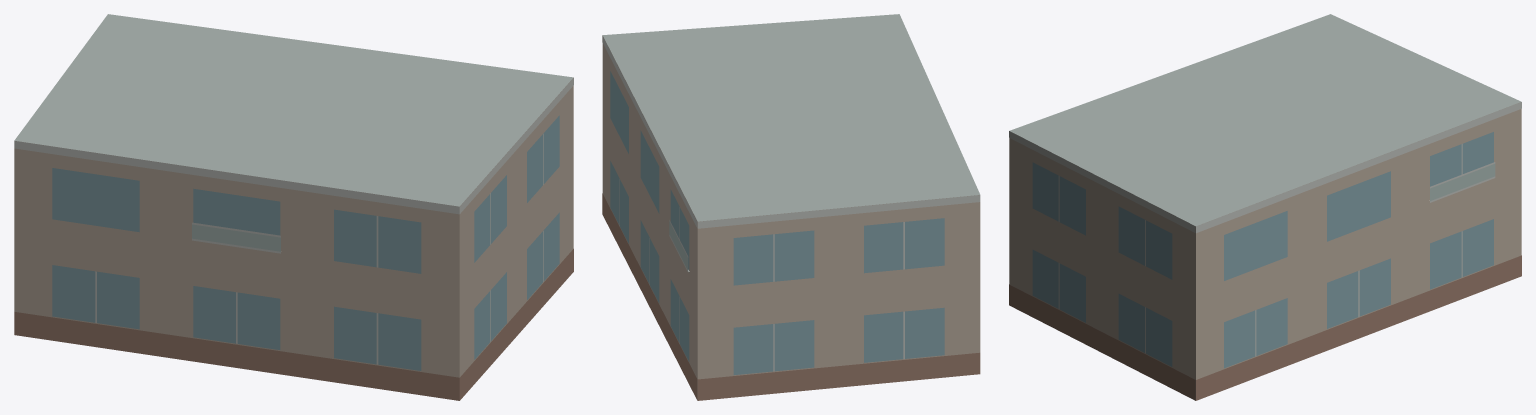
Rendered from survey-upis-32802789.glb.
3 renders of one model, left to right at view 1: azimuth 30°, elevation 25°; view 2: azimuth 150°, elevation 25°; view 3: azimuth 270°, elevation 25°, orthographic. The views are drawn at different scales.
Parts seen in each view (by area): view 1: survey-upis-32802789.tmp; view 2: survey-upis-32802789.tmp; view 3: survey-upis-32802789.tmp.
Part boxes in pixels (left/top/right/bottom): survey-upis-32802789.tmp: left=14, top=14, right=573, bottom=400; survey-upis-32802789.tmp: left=602, top=14, right=980, bottom=400; survey-upis-32802789.tmp: left=1009, top=14, right=1521, bottom=400.
Bounding box in the file's own units: 15.93 × 6.1 × 16.25.
